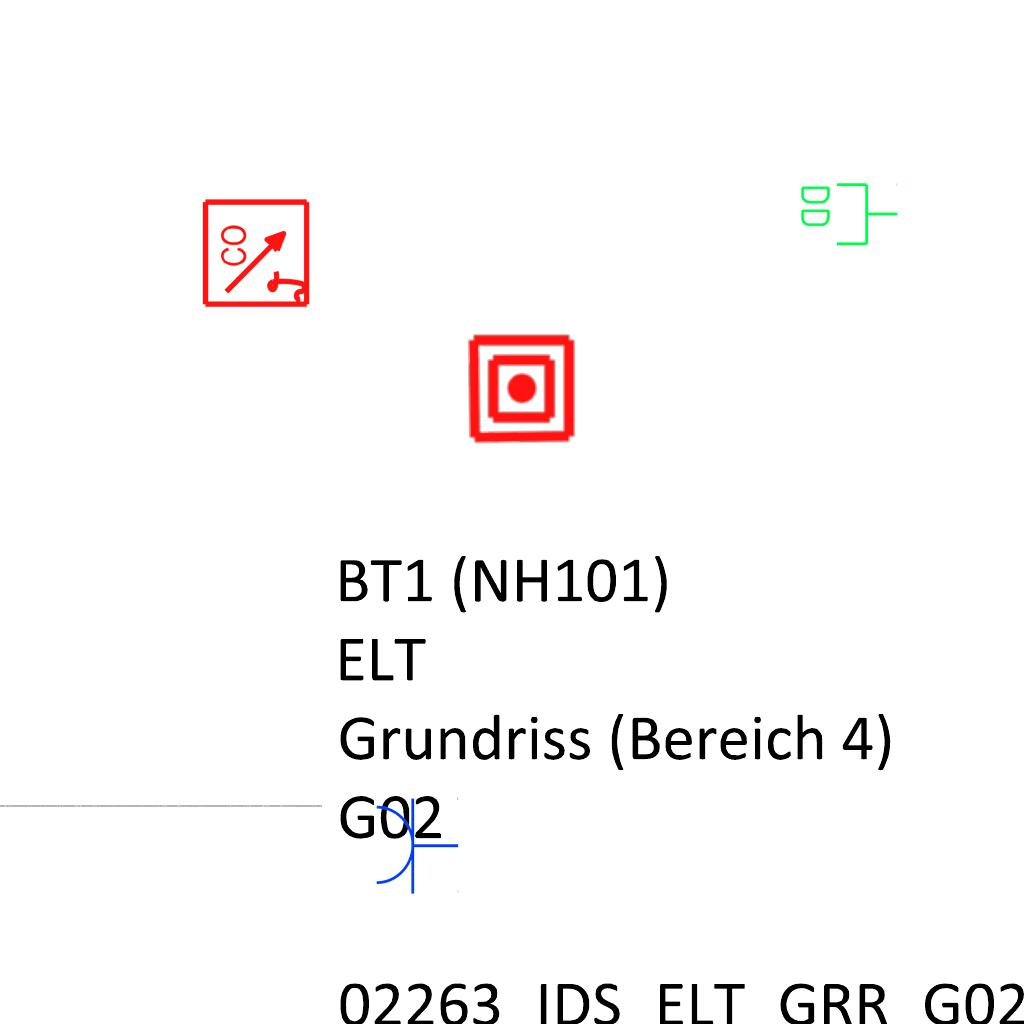Datenanschluss_zweifach: (797, 179, 900, 248)
NAM-Nichtautomatischer_Melder: (465, 332, 578, 445)
ROA_Rauchmelder_optisch_mit_Signalgeber_(Sockelsirene): (201, 196, 314, 309)
Schukosteckdose_einfach: (372, 795, 459, 895)
